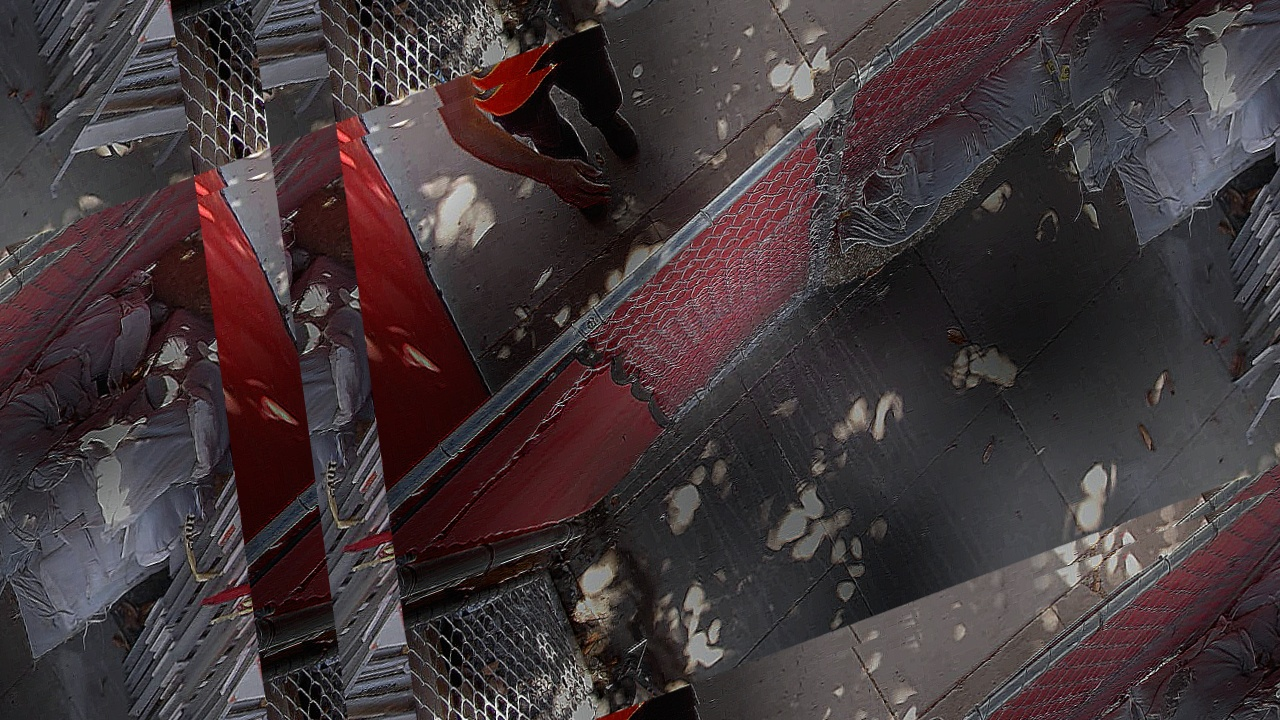person: (424, 27, 647, 213)
safetyvest: (467, 43, 577, 127)
